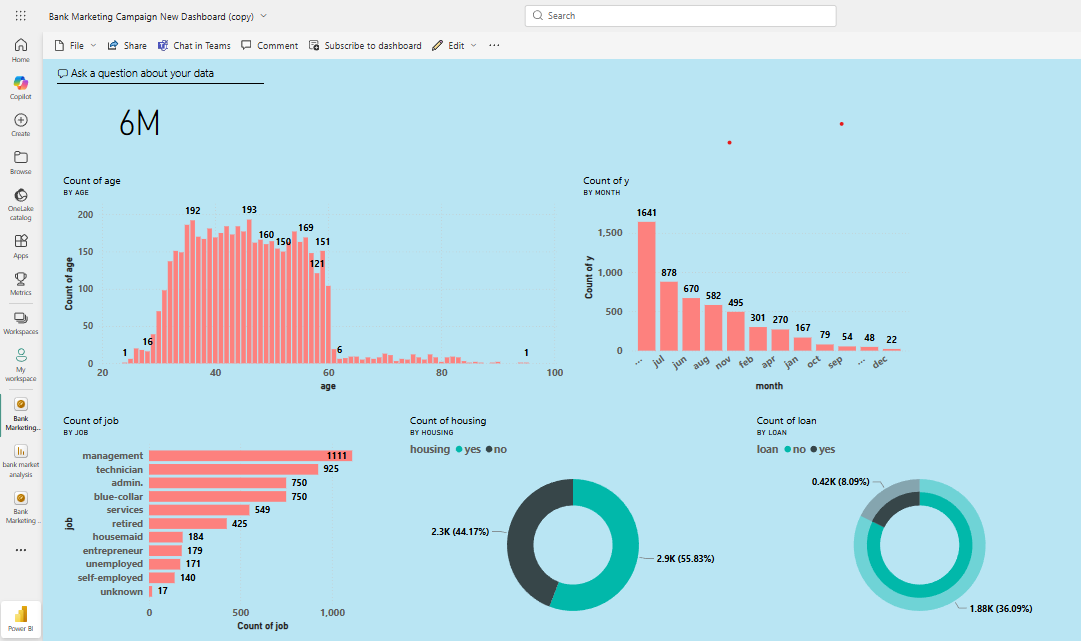

The page's visual inventory and layout, read from the dashboard file:
{"tool":"powerbi","page":{"name":"Bank Marketing Campaign Dashboard","canvas":[1280,720],"ordinal":4},"visuals":[{"type":"clusteredColumnChart","fields":{"Category":["bank-full.age"],"Y":["CountNonNull(bank-full.age)"]},"box":[253.4,416.2,740.2,289.4],"z":0},{"type":"clusteredBarChart","fields":{"Category":["bank-full.job"],"Y":["CountNonNull(bank-full.job)"]},"box":[625,118.1,368.6,298.1],"z":1000},{"type":"clusteredColumnChart","fields":{"Category":["bank-full.month"],"Y":["CountNonNull(bank-full.y)"]},"box":[253.4,118.1,371.5,298.1],"z":2000},{"type":"slicer","fields":{"Values":["bank-full.y"]},"box":[0,118.1,253.4,148.3],"z":3000},{"type":"slicer","fields":{"Values":["bank-full.month"]},"box":[0,266.4,253.4,149.8],"z":4000},{"type":"slicer","fields":{"Values":["bank-full.age"]},"box":[0,416.2,253.4,145.4],"z":5000},{"type":"slicer","fields":{"Values":["bank-full.marital"]},"box":[0,561.6,253.4,144],"z":6000},{"type":"donutChart","fields":{"Y":["CountNonNull(bank-full.housing)"],"Category":["bank-full.housing"]},"box":[993.6,118.1,286.6,298.1],"z":7000},{"type":"donutChart","fields":{"Category":["bank-full.loan"],"Y":["CountNonNull(bank-full.loan)"]},"box":[993.6,416.2,286.6,289.4],"z":8000},{"type":"textbox","box":[344.4,17,680.3,63.8],"z":8001},{"type":"card","fields":{"Values":["Sum(bank-full.SuccessFlag)"]},"box":[0,0,153.1,107.7],"z":8002},{"type":"card","fields":{"Values":["Sum(bank-full.balance)"]},"box":[1126.8,0,153.1,107.7],"z":8003}]}

Visuals, with their boxes on the page's 1280x720 design canvas (x1, y1, x2, y2). These are canvas units, not pixel positions in the 1081x641 screenshot, which may show the page scaled, cropped or inside an application window:
clusteredColumnChart - bank-full.age x CountNonNull(bank-full.age): 253/416/994/706
clusteredBarChart - bank-full.job x CountNonNull(bank-full.job): 625/118/994/416
clusteredColumnChart - bank-full.month x CountNonNull(bank-full.y): 253/118/625/416
slicer - bank-full.y: 0/118/253/266
slicer - bank-full.month: 0/266/253/416
slicer - bank-full.age: 0/416/253/562
slicer - bank-full.marital: 0/562/253/706
donutChart - CountNonNull(bank-full.housing) x bank-full.housing: 994/118/1280/416
donutChart - bank-full.loan x CountNonNull(bank-full.loan): 994/416/1280/706
textbox: 344/17/1025/81
card - Sum(bank-full.SuccessFlag): 0/0/153/108
card - Sum(bank-full.balance): 1127/0/1280/108
